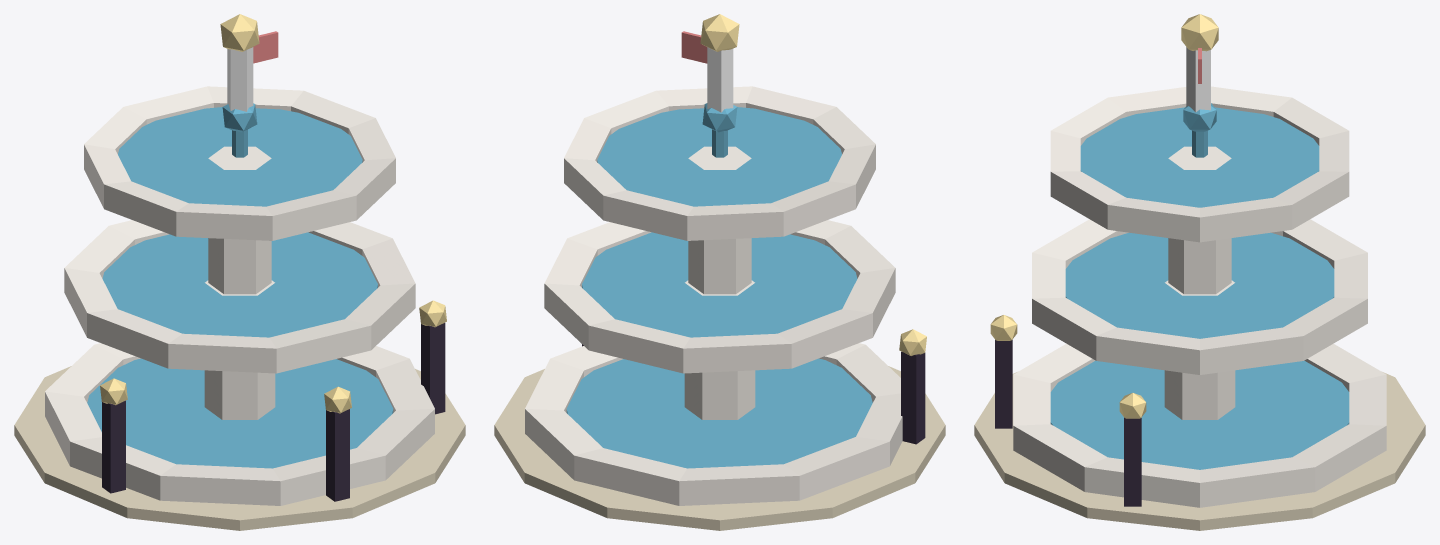
Rendered from park-g2.glb.
3 views of the same model, side by side, from view 1: azimuth 30°, elevation 25°; view 2: azimuth 150°, elevation 25°; view 3: azimuth 270°, elevation 25° (orthographic).
Visible parts, largest first — view 1: park-g2; view 2: park-g2; view 3: park-g2.
Boxes of the visible parts, x1=… form: park-g2: x1=14, y1=14, x2=465, y2=530; park-g2: x1=494, y1=14, x2=945, y2=530; park-g2: x1=974, y1=14, x2=1425, y2=530.
Size of the model in its own units: 2.3 by 2.37 by 2.3.
